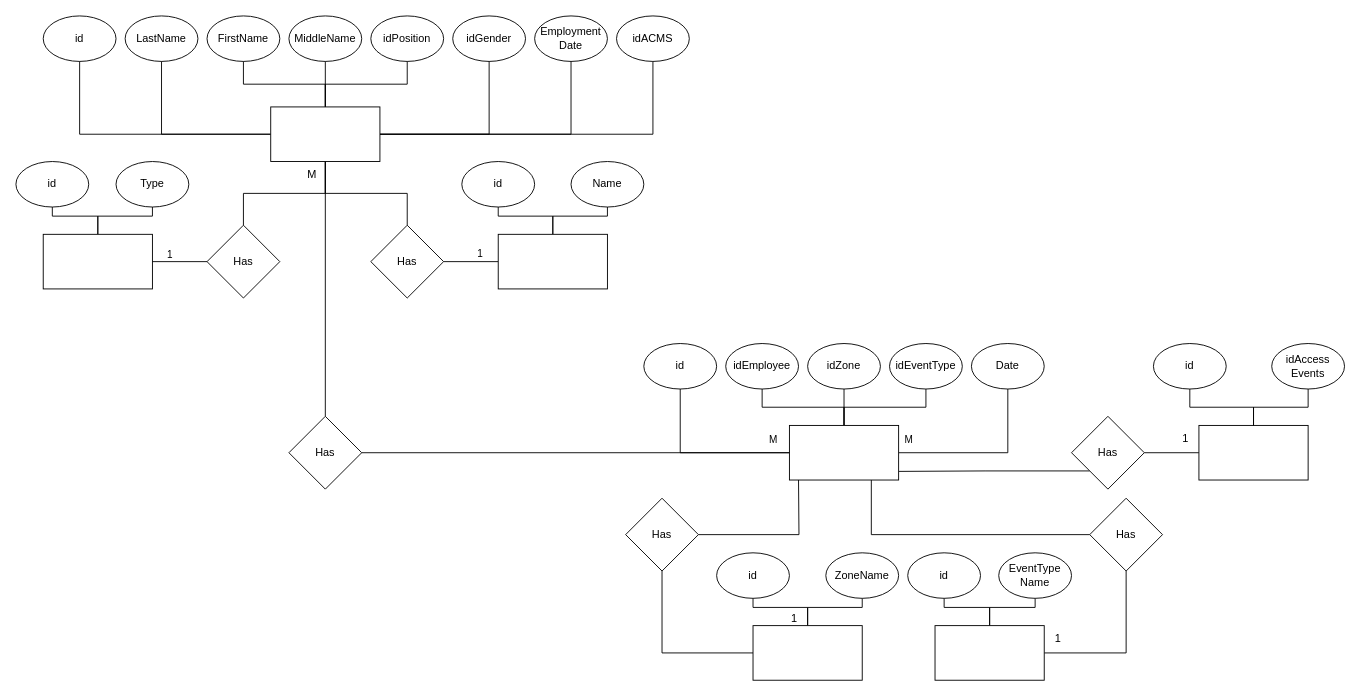
This 1360x696 diagram has some shape labels left out. Here are the shapes that lost their labels. From the top down, the box of each, then its label:
(270, 106, 380, 162): Employee
(42, 233, 152, 289): Gender
(497, 233, 607, 289): Position
(789, 425, 899, 480): AccessEvents
(1198, 425, 1308, 480): EventLog
(752, 625, 862, 680): AccessZones
(934, 625, 1044, 680): EventTypes
